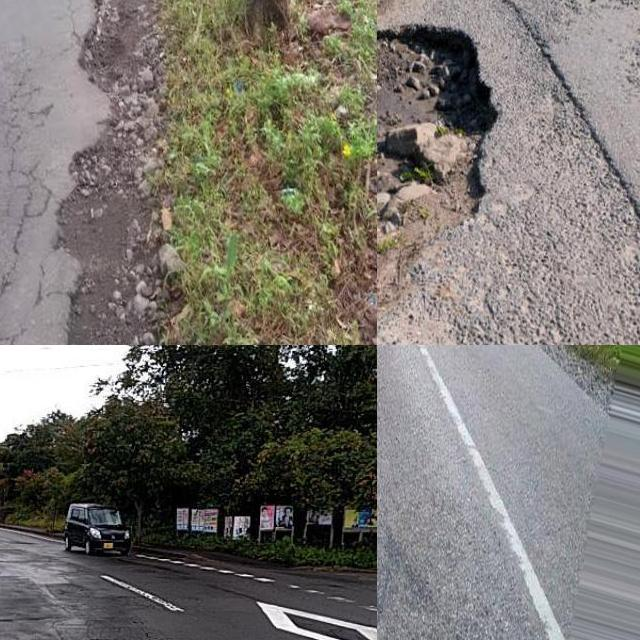Pinggir: (40, 0, 183, 345), (377, 10, 509, 333)
